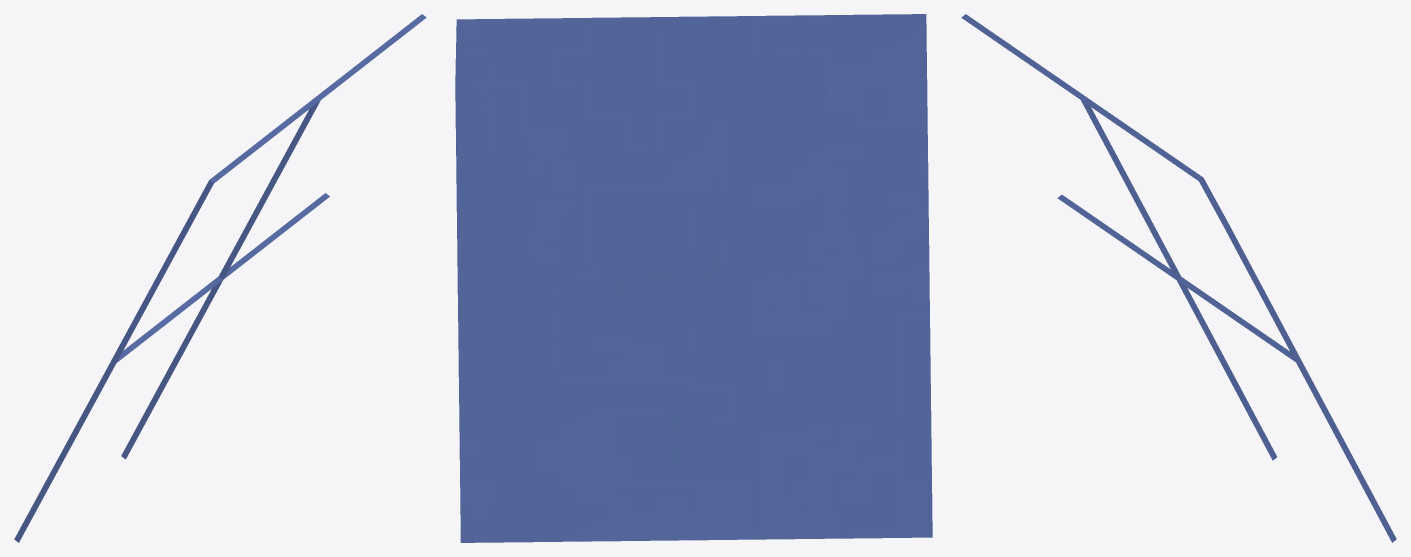
3 views of the same model, side by side, from view 1: azimuth 30°, elevation 25°; view 2: azimuth 150°, elevation 25°; view 3: azimuth 270°, elevation 25° (orthographic). The views are drawn at different scales.
Bounding box in the file's own units: 19672 × 17661 × 16872.
1 material, 1 textured.
